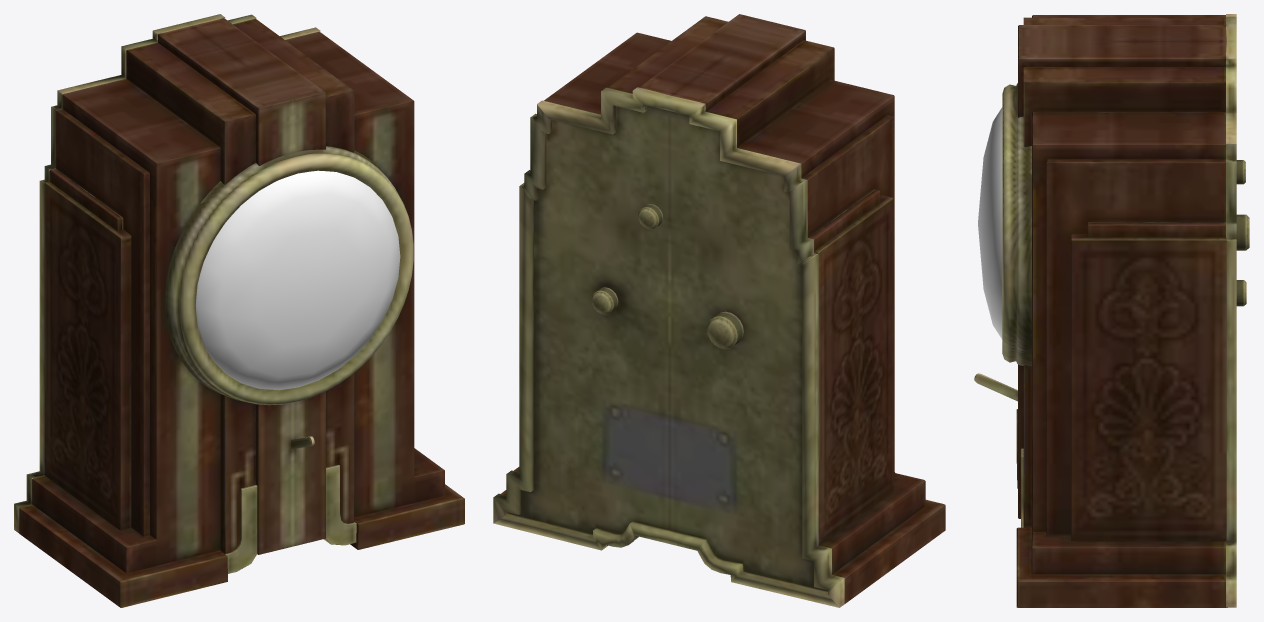
The model's file is SM_Clock_Small_816292.glb.
3 renders of one model, left to right at view 1: azimuth 30°, elevation 25°; view 2: azimuth 150°, elevation 25°; view 3: azimuth 270°, elevation 25°, orthographic. The views are drawn at different scales.
Size of the model in its own units: 0.2211 by 0.2852 by 0.1483.
2 materials, 1 textured.
